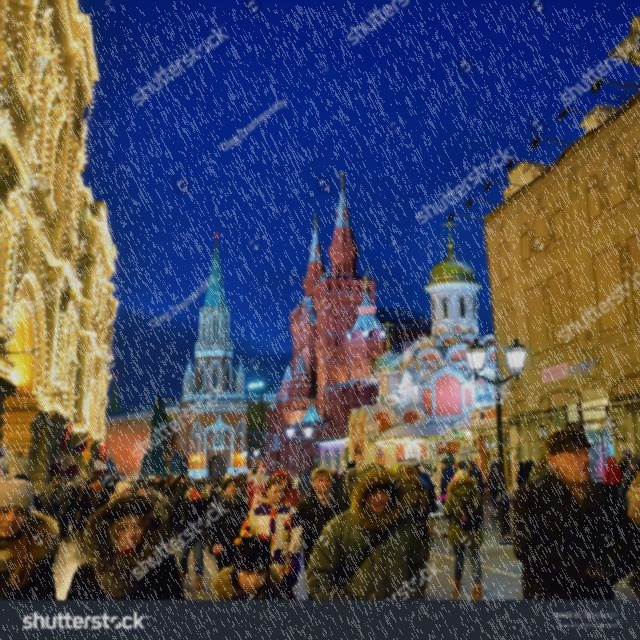pessoa: (510, 427, 640, 601), (302, 461, 417, 603), (64, 494, 186, 600), (0, 474, 63, 602), (239, 479, 305, 600), (295, 467, 351, 601), (210, 536, 297, 602), (442, 468, 486, 598), (168, 478, 214, 592), (396, 464, 432, 602), (200, 478, 251, 574), (163, 472, 191, 544), (258, 469, 306, 511), (414, 462, 439, 542), (36, 474, 72, 521), (90, 478, 120, 516), (246, 462, 270, 509), (77, 478, 96, 536), (587, 436, 610, 479), (438, 458, 458, 507), (618, 454, 640, 496), (430, 456, 449, 502), (31, 489, 58, 521), (522, 458, 540, 505), (464, 460, 486, 498), (602, 456, 624, 494), (626, 470, 640, 527), (528, 446, 550, 482), (201, 472, 237, 490), (490, 462, 500, 520), (88, 481, 105, 514), (121, 476, 154, 492), (625, 566, 640, 601), (342, 467, 358, 499), (295, 470, 313, 498), (236, 472, 251, 503), (109, 481, 133, 500), (131, 484, 150, 501), (344, 461, 358, 484), (332, 470, 346, 490), (152, 475, 166, 494), (618, 452, 630, 471), (162, 474, 175, 491), (516, 462, 525, 486), (148, 491, 167, 502), (391, 462, 404, 478), (76, 479, 86, 496), (13, 473, 30, 483), (456, 460, 468, 470), (102, 478, 110, 490), (66, 480, 76, 488), (187, 476, 194, 482)
